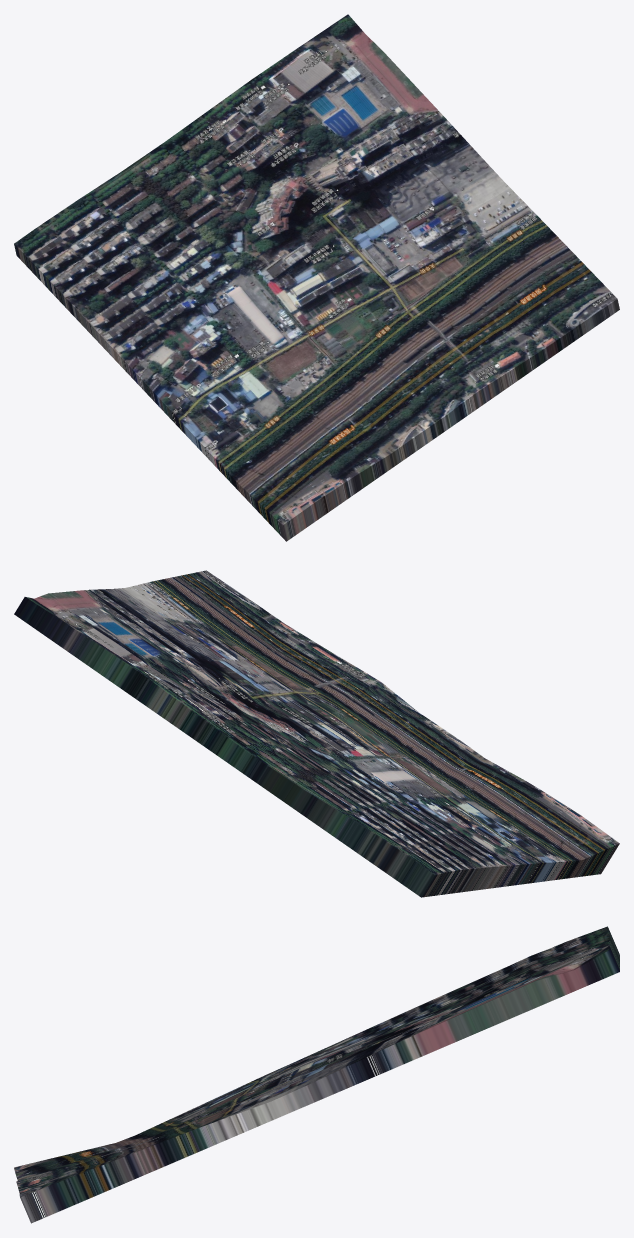
3 renders of one model, top to bottom at view 1: azimuth 30°, elevation 25°; view 2: azimuth 150°, elevation 25°; view 3: azimuth 270°, elevation 25°, orthographic. The views are drawn at different scales.
Visible parts, largest first — view 1: 0_6_27; view 2: 0_6_27; view 3: 0_6_27.
Boxes of the visible parts, bbox=[...] form: 0_6_27: bbox=[14, 14, 619, 541]; 0_6_27: bbox=[14, 570, 619, 897]; 0_6_27: bbox=[14, 926, 619, 1223].
Bounding box in the file's own units: 603 × 448 × 558.
1 material, 1 textured.
